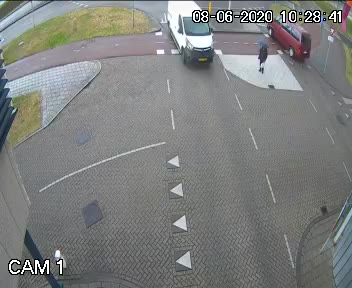car: (154, 0, 220, 75), (264, 13, 317, 70)
